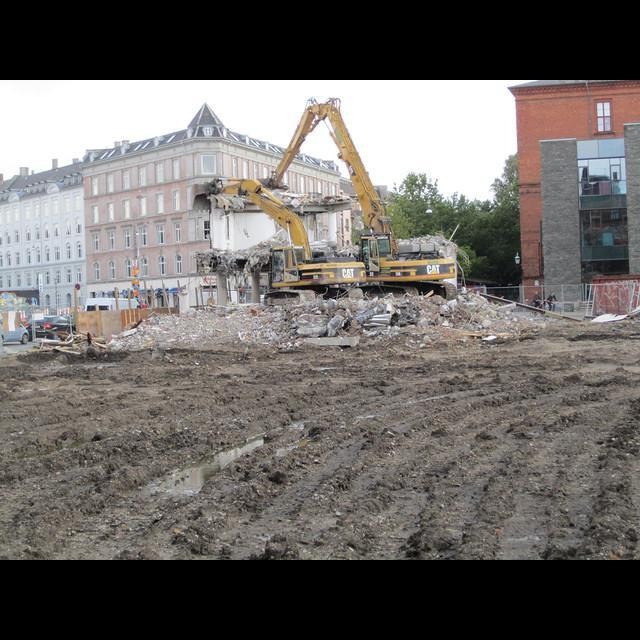Excavator: (257, 94, 459, 300), (209, 173, 366, 306)
NO-Safety Vest: (535, 296, 541, 304), (549, 296, 555, 303)
Person: (547, 293, 560, 312), (533, 292, 542, 308)
sedan: (25, 314, 76, 340), (0, 317, 29, 345)
van: (86, 297, 140, 311)
